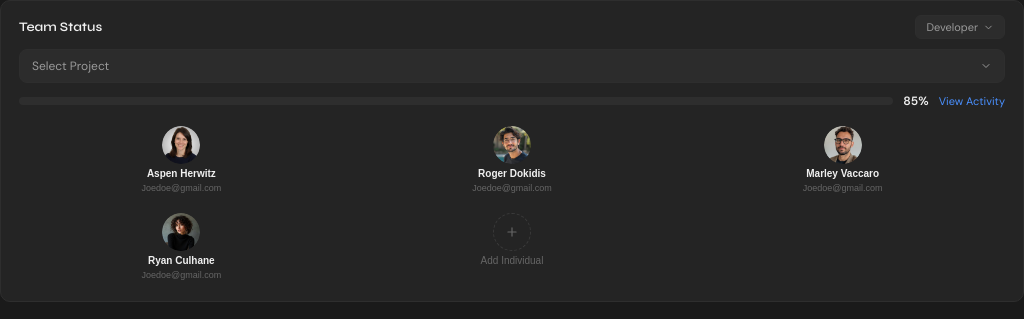
Test: TeamStatusPanel › capitalizes "App" in the Web 3 project option, matching index.html:5476 exactly
The image size is (1024, 319).
Click the button "Select Project": (71, 66) [19, 49, 1005, 83]
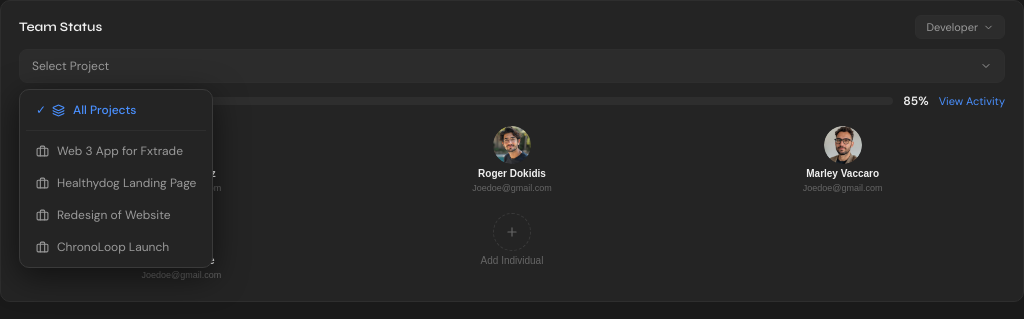
Expected: the menu item "Web 3 App for Fxtrade" is shown, [36, 143, 183, 159]
